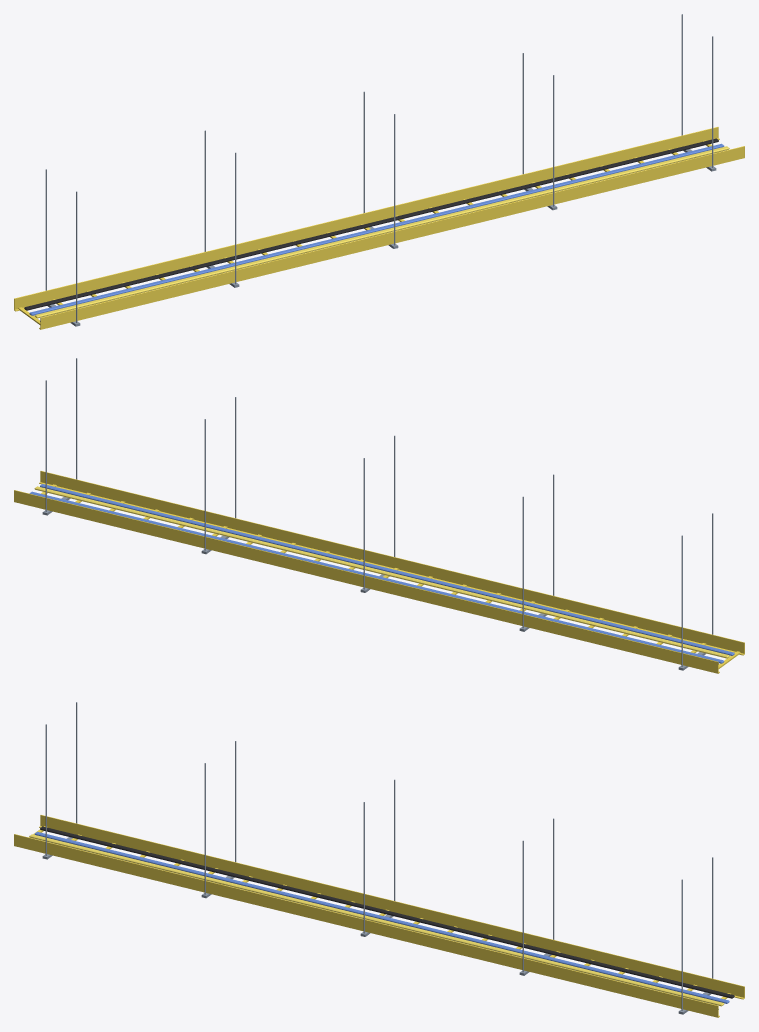
The model's file is cable_tray.fbx.
The picture shows the model from 3 angles, top to bottom: view 1: azimuth 30°, elevation 25°; view 2: azimuth 150°, elevation 25°; view 3: azimuth 330°, elevation 25°; orthographic projection.
Parts seen in each view (by area): view 1: Tray; view 2: Tray; view 3: Tray.
Part boxes in pixels (<box>): Tray: <box>14,14,744,329</box>; Tray: <box>14,358,744,673</box>; Tray: <box>14,702,744,1017</box>.
Size of the model in its own units: 6.18 by 1.12 by 0.5.
